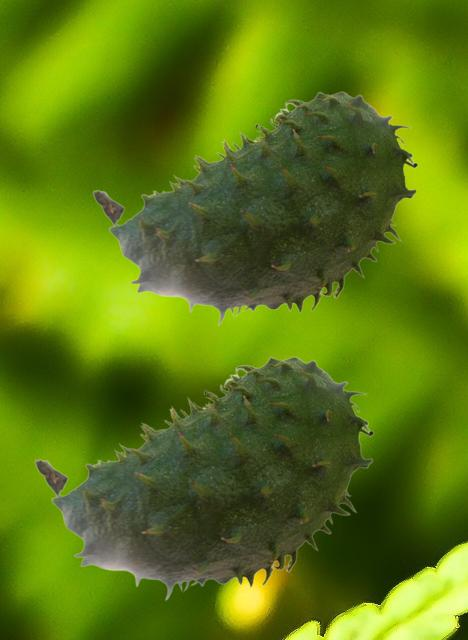guyabano: (34, 356, 373, 600), (92, 91, 417, 325)
